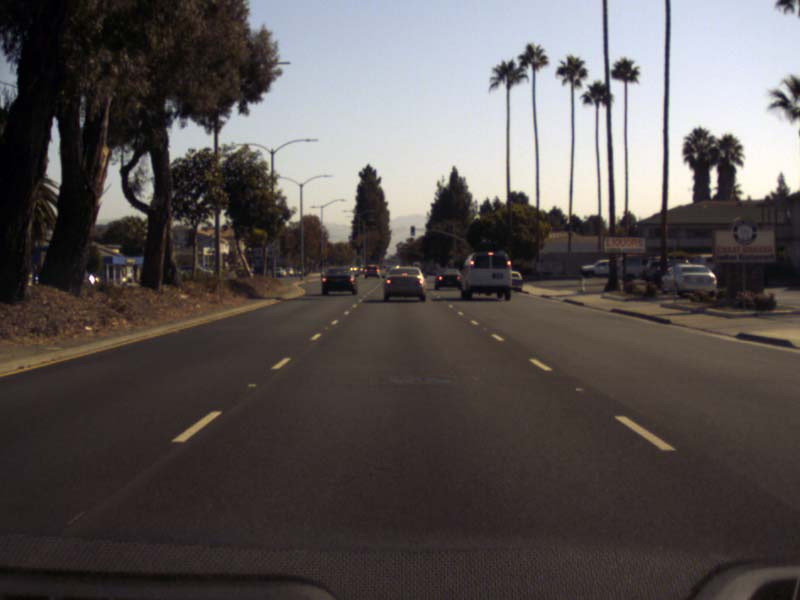Green: (409, 224, 415, 236)
